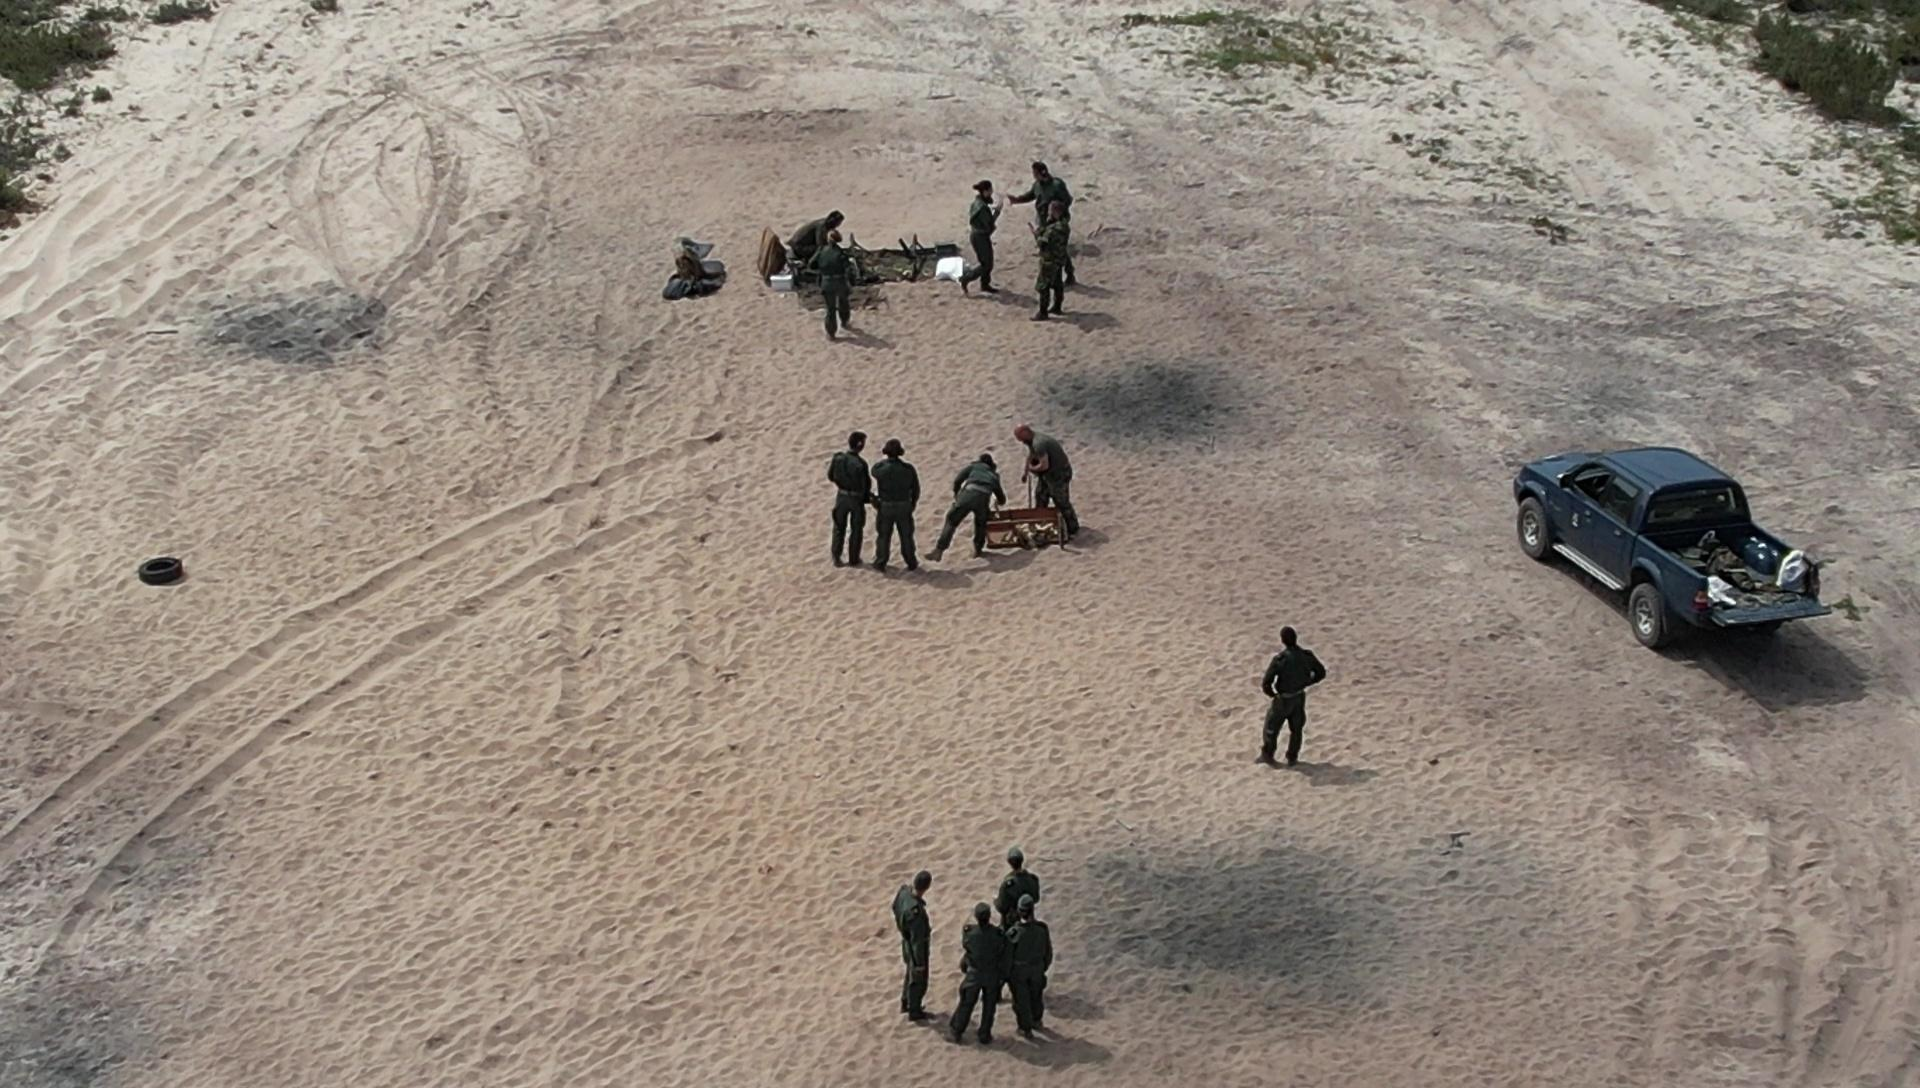Soldier: (827, 423, 909, 591), (884, 841, 949, 1047), (1253, 615, 1329, 786), (985, 869, 1055, 1039), (940, 167, 1010, 315), (981, 870, 1042, 1035), (1007, 437, 1091, 554), (1027, 160, 1084, 315), (789, 191, 864, 309), (952, 427, 1007, 586), (868, 430, 923, 580), (1029, 145, 1080, 293), (807, 228, 858, 338)
